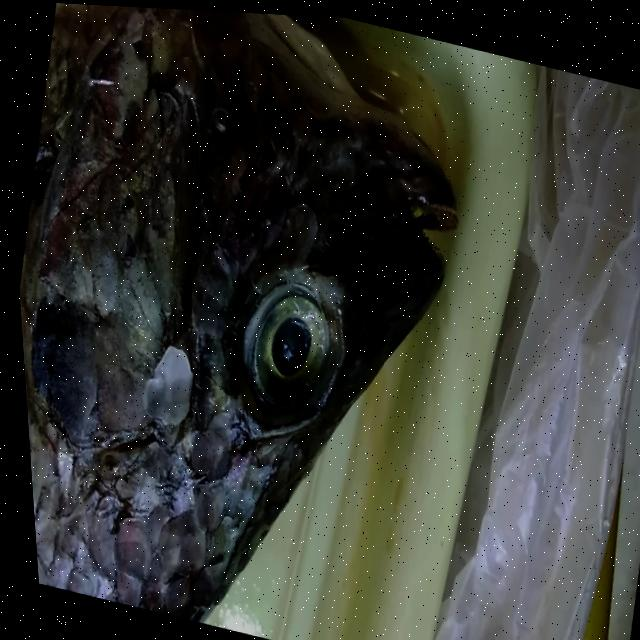Non-Fresh: (0, 0, 288, 615), (204, 252, 362, 431)
